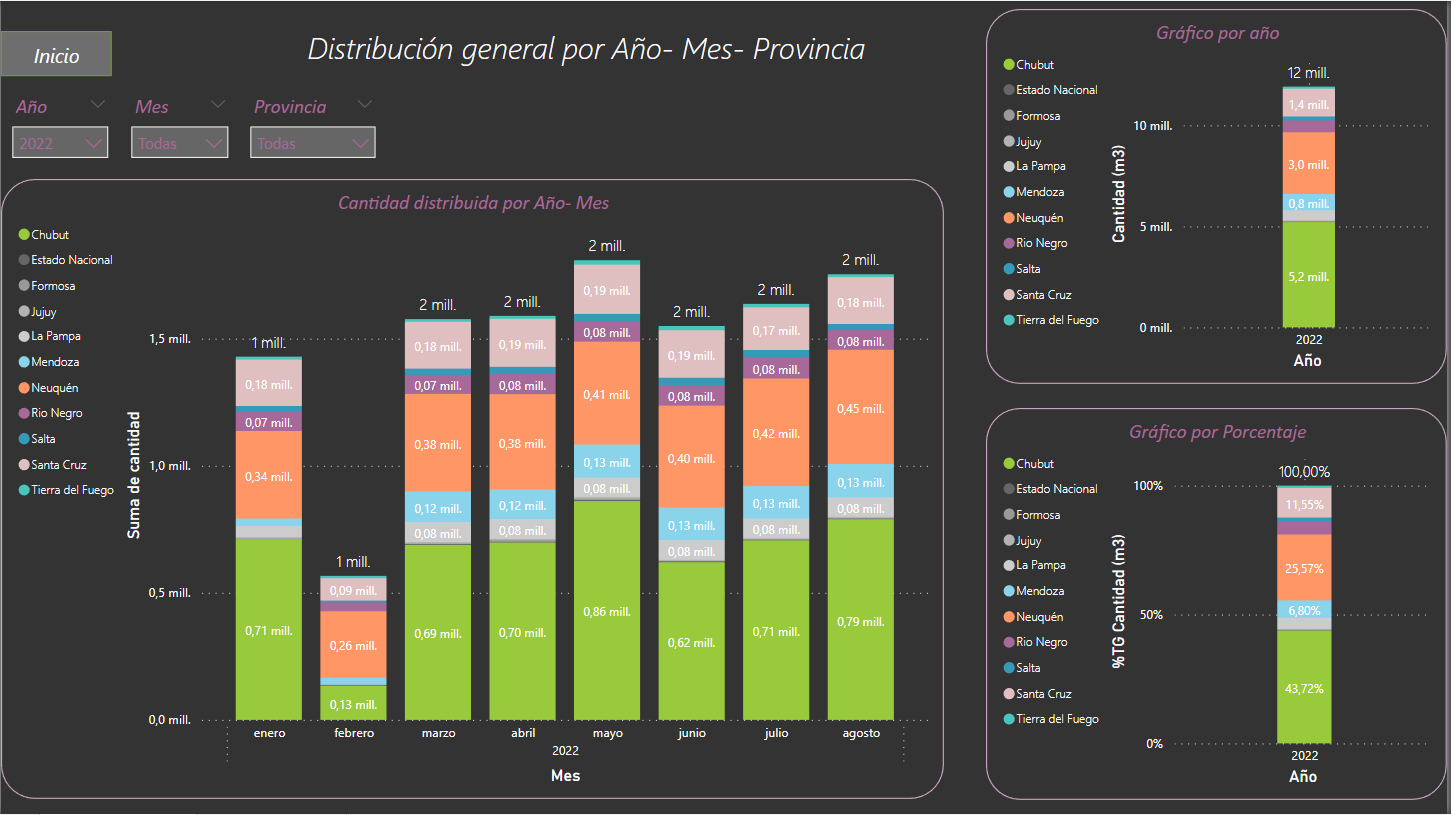

The page's visual inventory and layout, read from the dashboard file:
{"tool":"powerbi","page":{"name":"Analisis por Provincia","canvas":[1280,720],"ordinal":2},"visuals":[{"type":"slicer","fields":{"Values":["Tabla Puente.Año"]},"box":[0,76.6,105.1,66.8],"z":0},{"type":"columnChart","title":"Cantidad distribuida por Año- Mes","fields":{"Series":["Distribucion Petroleo.Provincia"],"Y":["Sum(Distribucion Petroleo.cantidad)"],"Category":["Tabla Puente.fecha_data.Variación.Jerarquía de fechas.Año","Tabla Puente.fecha_data.Variación.Jerarquía de fechas.Mes"]},"box":[0,158,835,548.8],"z":1000},{"type":"columnChart","title":"Gráfico por año","fields":{"Y":["Distribucion Petroleo.Cantidad (m3)"],"Category":["Tabla Puente.fecha_data.Variación.Jerarquía de fechas.Año"],"Series":["Distribucion Petroleo.Provincia"]},"box":[871.9,7,408.3,331.9],"z":2000},{"type":"columnChart","title":"Gráfico por Porcentaje","fields":{"Category":["Tabla Puente.fecha_data.Variación.Jerarquía de fechas.Año"],"Y":["Distribucion Petroleo.Cantidad (m3)"],"Series":["Distribucion Petroleo.Provincia"]},"box":[871.9,360,408.3,346.8],"z":3000},{"type":"slicer","fields":{"Values":["Tabla Puente.fecha_data.Variación.Jerarquía de fechas.Mes"]},"box":[105.1,76.6,106.1,66.8],"z":4000},{"type":"slicer","fields":{"Values":["Distribucion Petroleo.Provincia"]},"box":[211.2,76.6,130.7,66.8],"z":5000},{"type":"textbox","box":[182.7,0,671.9,73.7],"z":6000},{"type":"shape","box":[0,26.5,98.2,40.3],"z":7000}]}

Visuals, with their boxes in screenshot pixels (x1, y1, x2, y2), scaled from the page's 1280x720 canvas onto the 1451x815 screenshot:
slicer - Tabla Puente.Año: (0, 87, 119, 162)
"Cantidad distribuida por Año- Mes" columnChart: (0, 179, 947, 800)
"Gráfico por año" columnChart: (988, 8, 1450, 384)
"Gráfico por Porcentaje" columnChart: (988, 408, 1450, 800)
slicer - Tabla Puente.fecha_data.Variación.Jerarquía de fechas.Mes: (119, 87, 239, 162)
slicer - Distribucion Petroleo.Provincia: (239, 87, 388, 162)
textbox: (207, 0, 969, 83)
shape: (0, 30, 111, 76)
